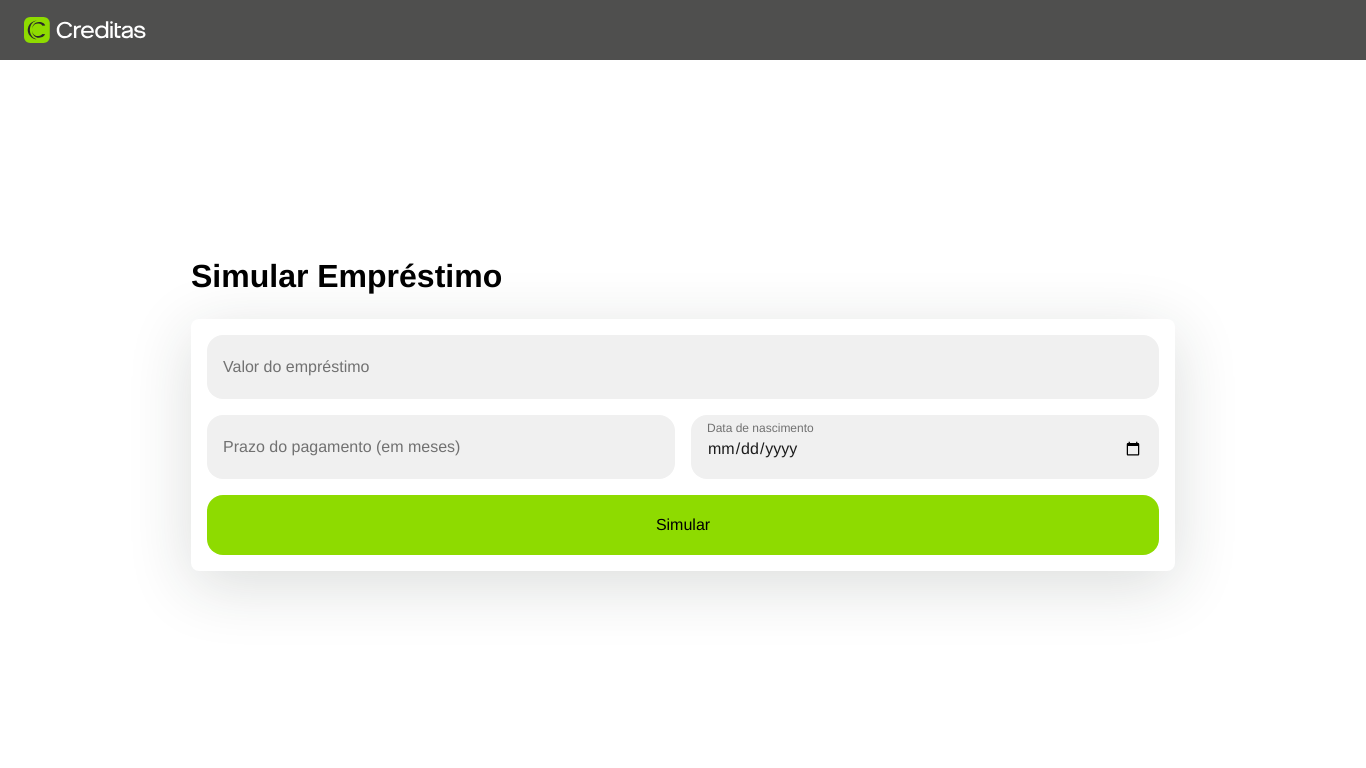
Test case: Home › should show results when all is filled up and the submit button is clicked
Type "50000" into the field labelled "Valor do empréstimo" at (683, 368), box [223,356,1143,380]
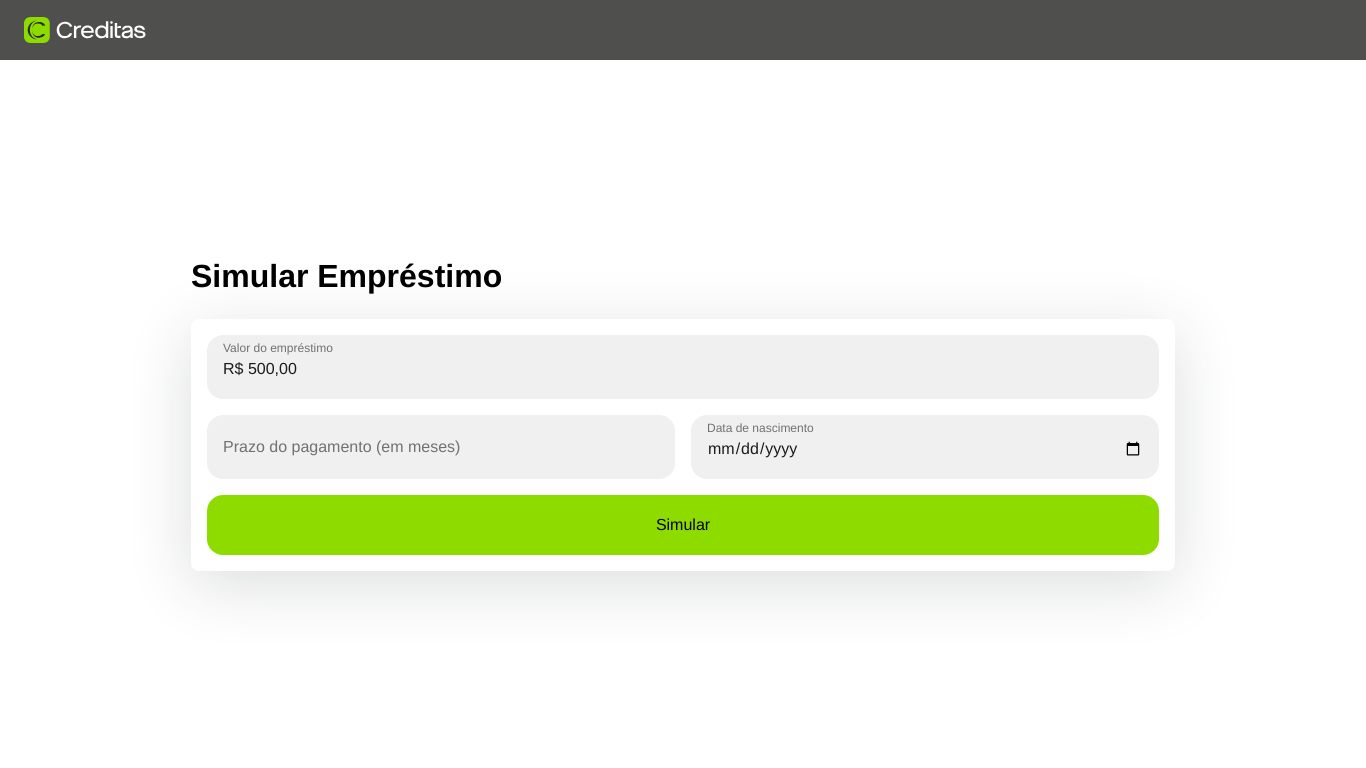
Type "12" into the number field labelled "Prazo do pagamento (em meses)" at (441, 448), box [223,436,659,460]
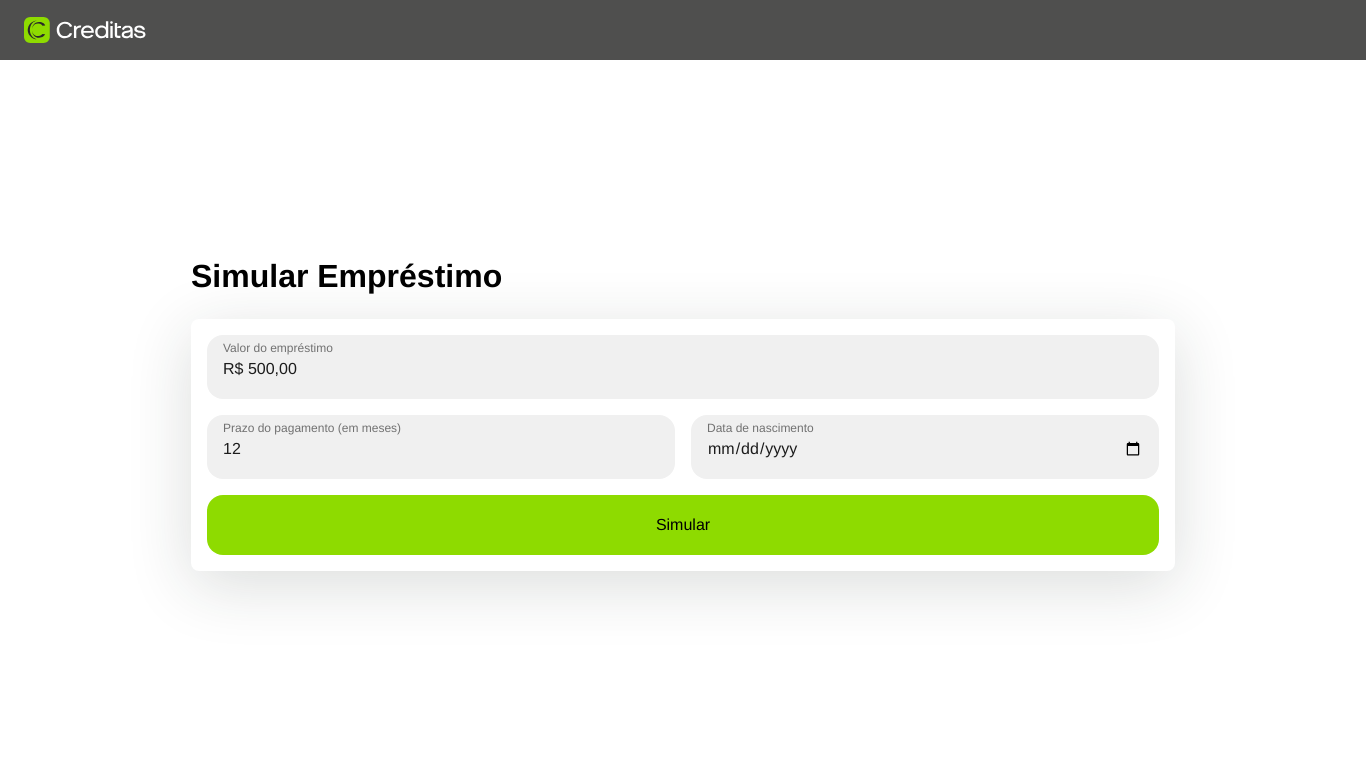
Type "2001-12-10" into the date field labelled "Data de nascimento" at (925, 448), box [707,436,1143,460]
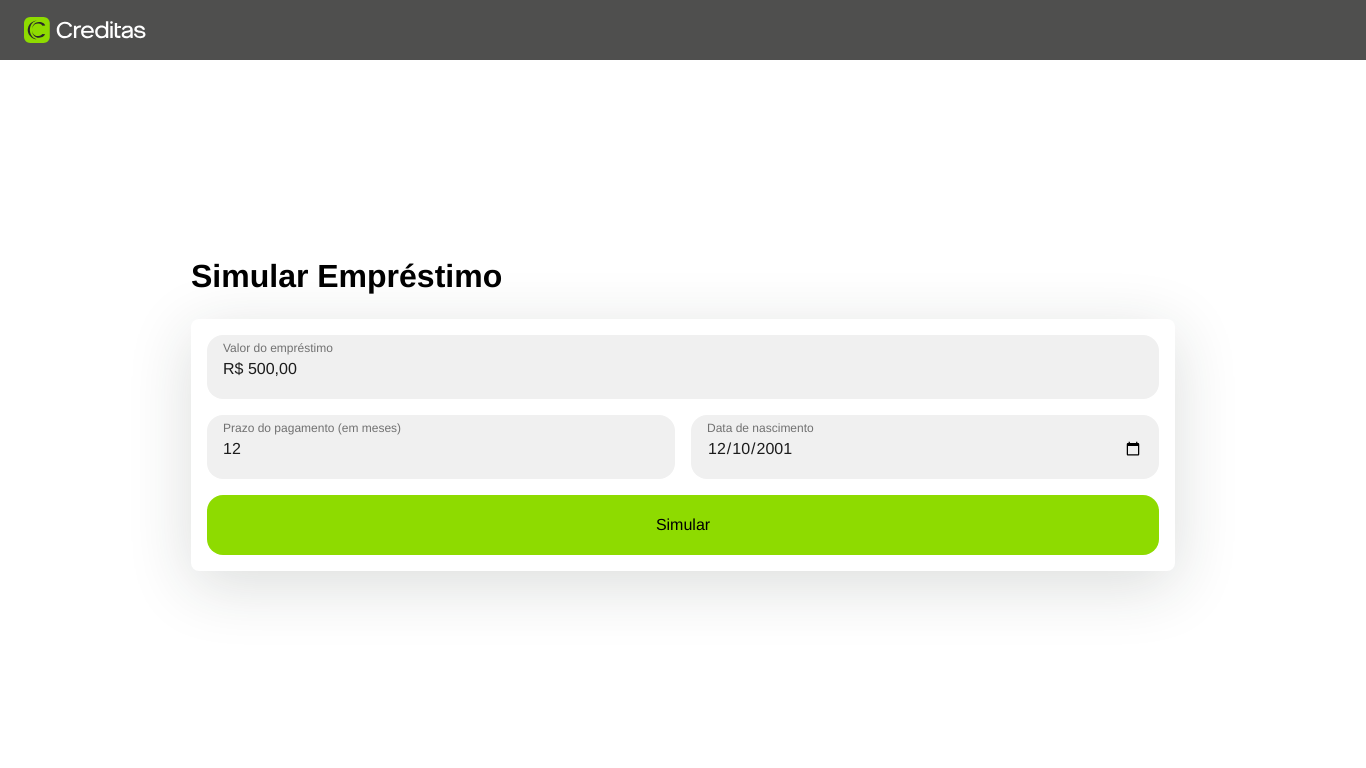
Submit the form from the button, box [207,494,1159,554]
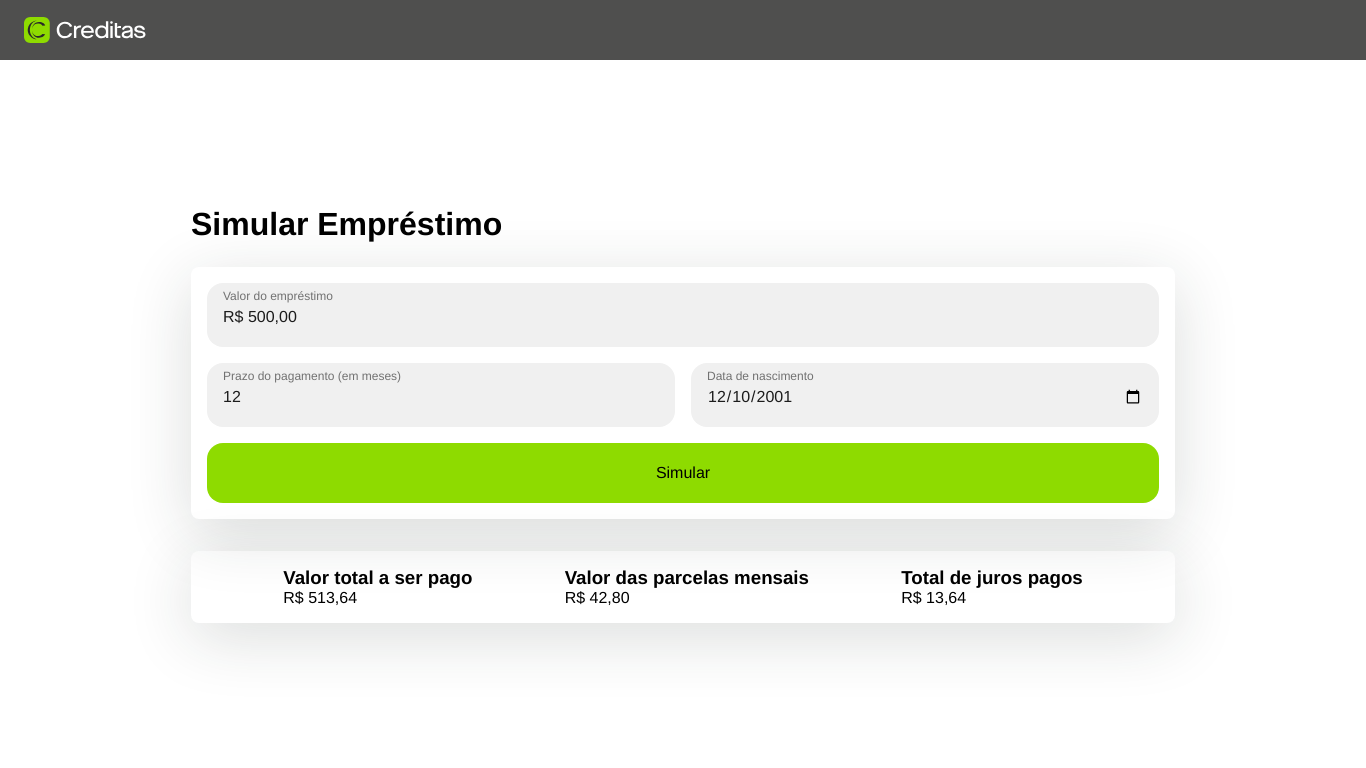
Result: the element with test id "results-card" is shown at [191,550,1175,622]
